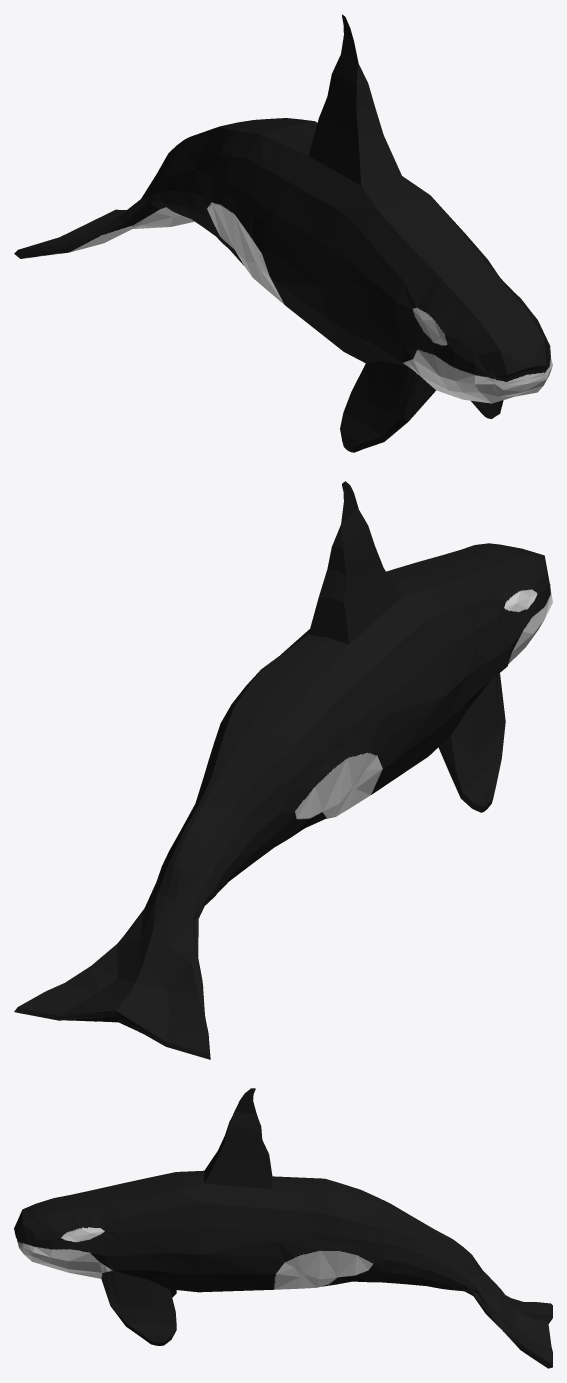
The model's file is orca.fbx.
The picture shows the model from 3 angles, top to bottom: view 1: azimuth 30°, elevation 25°; view 2: azimuth 150°, elevation 25°; view 3: azimuth 270°, elevation 25°; orthographic projection. The views are drawn at different scales.
Parts seen in each view (by area): view 1: orca; view 2: orca; view 3: orca.
Boxes of the visible parts, x1=… form: orca: x1=14, y1=14, x2=552, y2=452; orca: x1=14, y1=481, x2=552, y2=1059; orca: x1=14, y1=1088, x2=552, y2=1368.
Bounding box in the file's own units: 191 × 360 × 702.
1 material, 1 textured.
